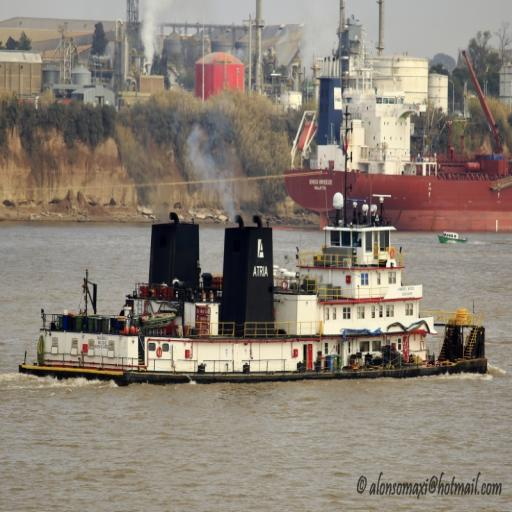tugboat: (17, 102, 496, 389)
